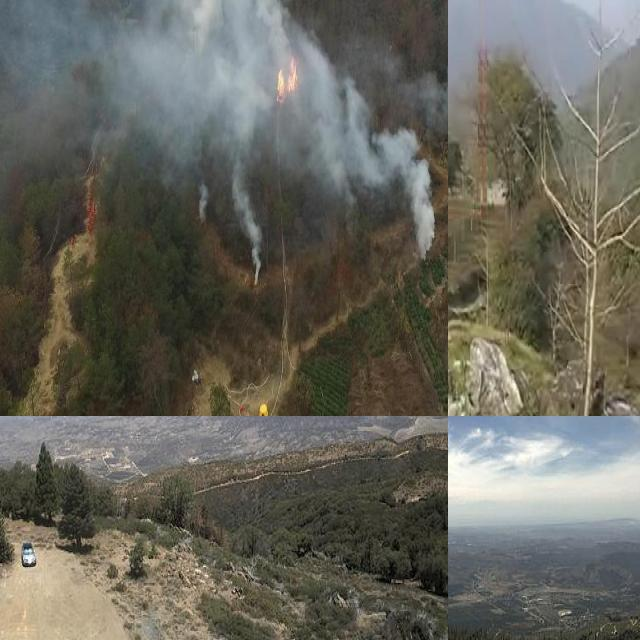fire: (265, 45, 307, 115)
smoke: (0, 0, 448, 251)
